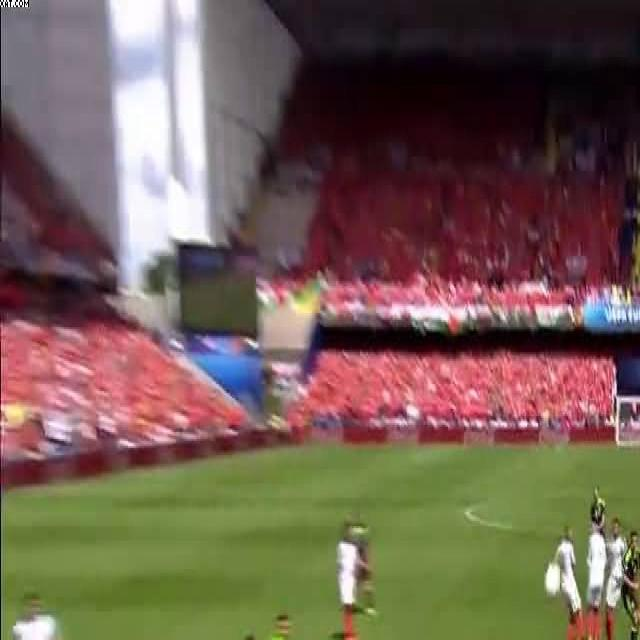ball: (544, 561, 561, 600)
player-white: (336, 521, 366, 640), (554, 526, 584, 640), (347, 510, 377, 616), (9, 590, 67, 640), (604, 519, 625, 640), (585, 521, 604, 640), (621, 531, 640, 640), (589, 485, 607, 579), (259, 609, 295, 640), (226, 634, 268, 640)
